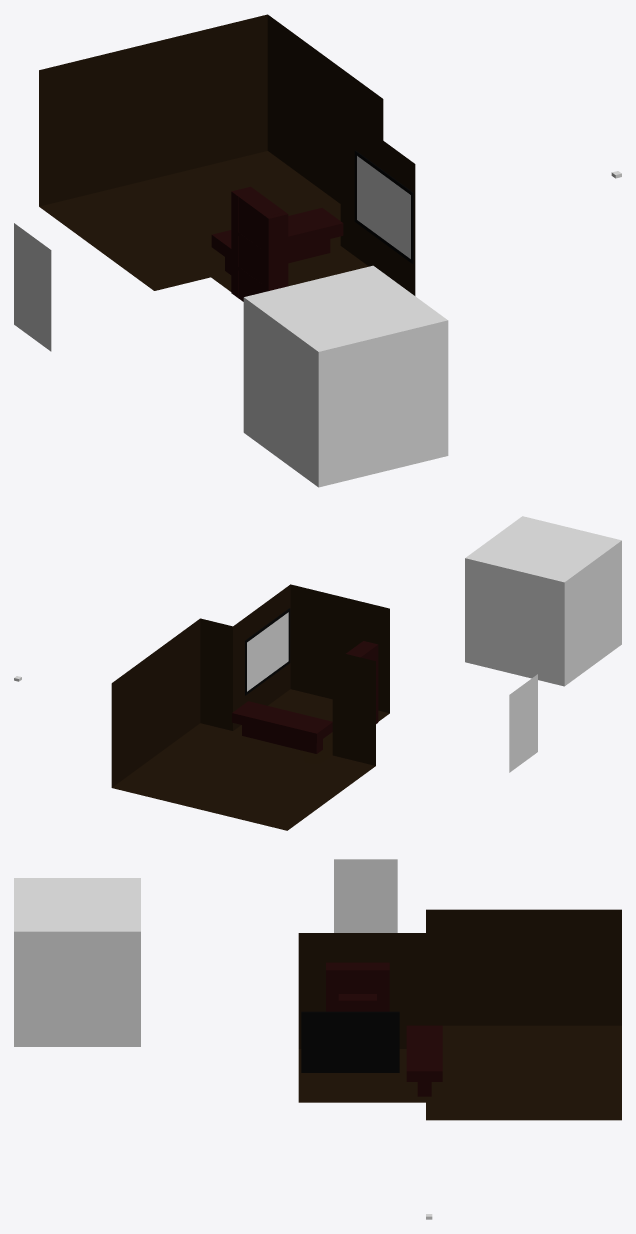
File: BartenderEscene.fbx
3 views of the same model, one above another, from view 1: azimuth 30°, elevation 25°; view 2: azimuth 150°, elevation 25°; view 3: azimuth 270°, elevation 25° (orthographic). The views are drawn at different scales.
Parts seen in each view (by area): view 1: Plane001, Box001, Plane003, Plane002, Box002, Box006, Box005, Box003, Box007, Box010; view 2: Plane001, Box001, Box002, Plane003, Plane002, Box003; view 3: Plane001, Box001, Box003, Plane003, Box002, Box005, Box010, Box006, Box007.
Boxes of the visible parts, left/top/right/bottom form: Plane001: left=39, top=14, right=415, bottom=295; Box001: left=243, top=265, right=448, bottom=487; Plane003: left=14, top=223, right=51, bottom=351; Plane002: left=357, top=156, right=410, bottom=258; Box002: left=211, top=208, right=343, bottom=274; Box006: left=261, top=212, right=288, bottom=292; Box005: left=232, top=190, right=271, bottom=301; Box003: left=354, top=150, right=413, bottom=263; Box007: left=231, top=186, right=251, bottom=298; Box010: left=232, top=187, right=284, bottom=216; Plane001: left=111, top=584, right=389, bottom=830; Box001: left=465, top=516, right=621, bottom=686; Box002: left=232, top=701, right=332, bottom=753; Plane003: left=509, top=674, right=537, bottom=772; Plane002: left=247, top=612, right=288, bottom=691; Box003: left=245, top=608, right=290, bottom=695; Plane001: left=298, top=909, right=621, bottom=1120; Box001: left=14, top=878, right=140, bottom=1046; Box003: left=301, top=1011, right=399, bottom=1072; Plane003: left=334, top=859, right=397, bottom=932; Box002: left=406, top=1025, right=442, bottom=1096; Box005: left=326, top=962, right=389, bottom=1011; Box010: left=330, top=962, right=387, bottom=972; Box006: left=326, top=963, right=338, bottom=1011; Box007: left=377, top=963, right=389, bottom=1011.
Size of the model in its own units: 380 by 81.09 by 376.
